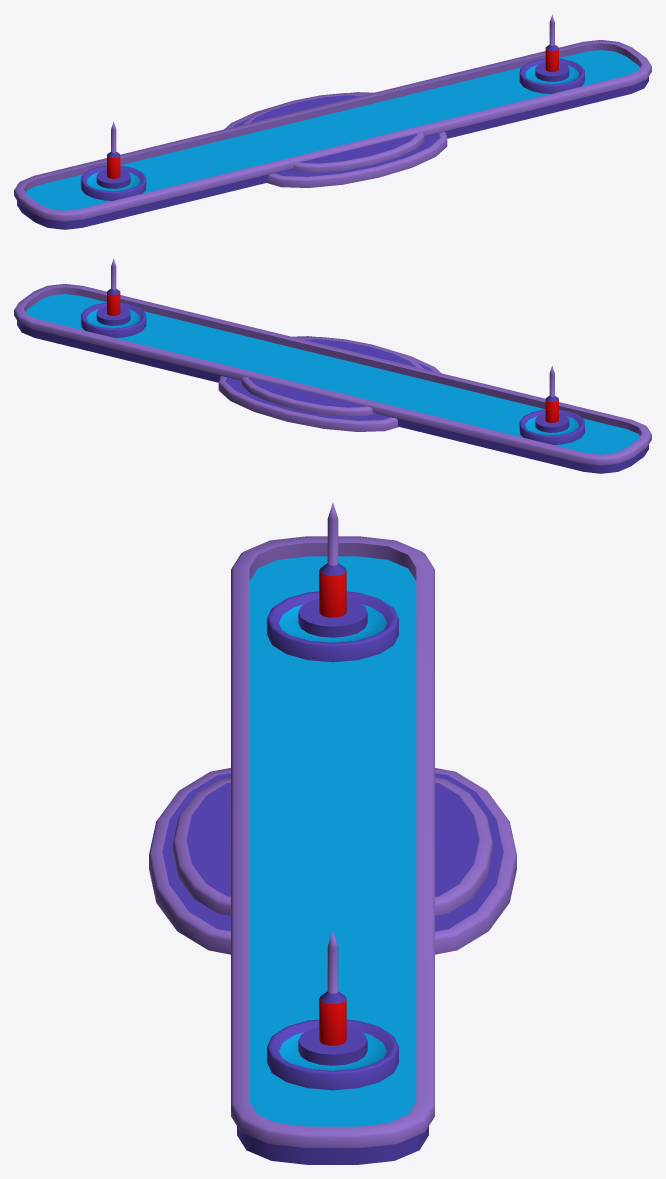
Rendered from Pool.fbx.
3 views of the same model, one above another, from view 1: azimuth 30°, elevation 25°; view 2: azimuth 150°, elevation 25°; view 3: azimuth 270°, elevation 25° (orthographic). The views are drawn at different scales.
Visible parts, largest first — view 1: Pool; view 2: Pool; view 3: Pool.
Part boxes in pixels (x1,y1,x2,y2): Pool: [14, 14, 651, 229]; Pool: [14, 258, 651, 473]; Pool: [149, 503, 516, 1164].
Size of the model in its own units: 51.9 by 6.17 by 13.47.
